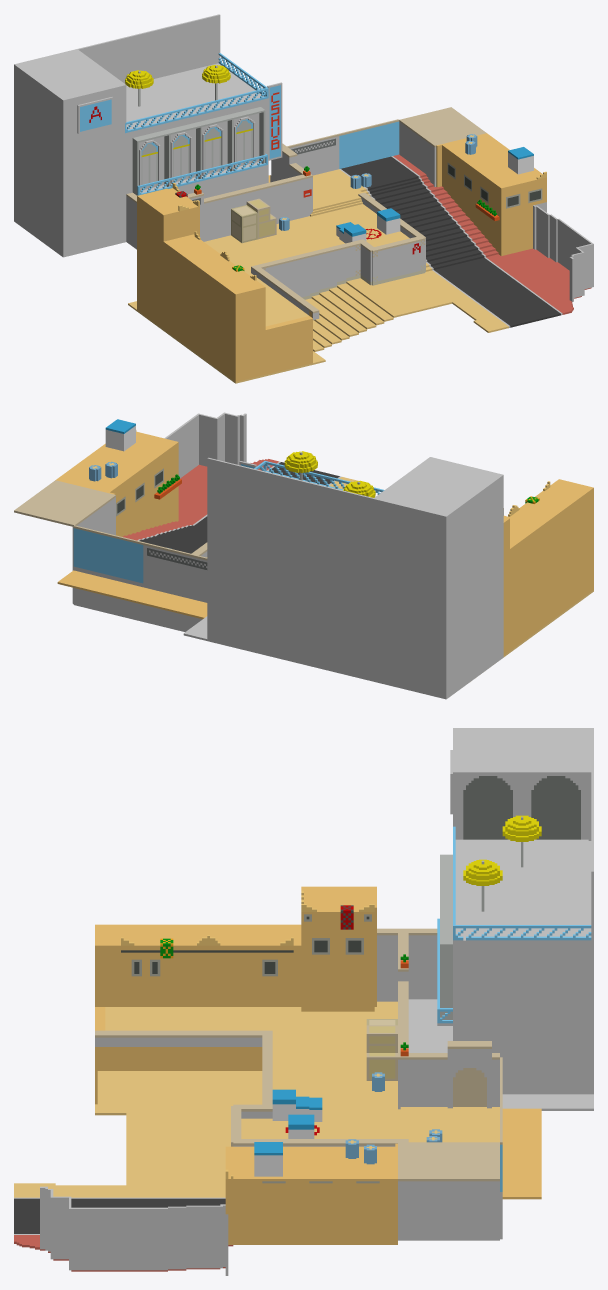
Rendered from dust2_a_styled.glb.
3 renders of one model, top to bottom at view 1: azimuth 30°, elevation 25°; view 2: azimuth 150°, elevation 25°; view 3: azimuth 270°, elevation 25°, orthographic. The views are drawn at different scales.
Parts seen in each view (by area): view 1: VoxelMesh0; view 2: VoxelMesh0; view 3: VoxelMesh0.
Part boxes in pixels (<box>): VoxelMesh0: <box>14,14,593,383</box>; VoxelMesh0: <box>14,412,593,699</box>; VoxelMesh0: <box>14,728,593,1275</box>.
Bounding box in the file's own units: 256 × 123 × 222.
Materials: 1 (1 with a texture image).
